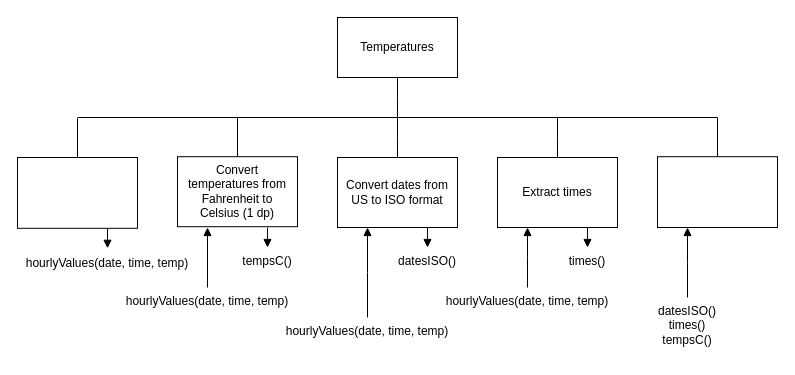
This 795x375 diagram has some shape labels left out. Here are the shapes that lost their labels. From the top down, the centre of each, then its label:
point (77, 192): Read data from csv file
point (717, 192): Write data to csv file
